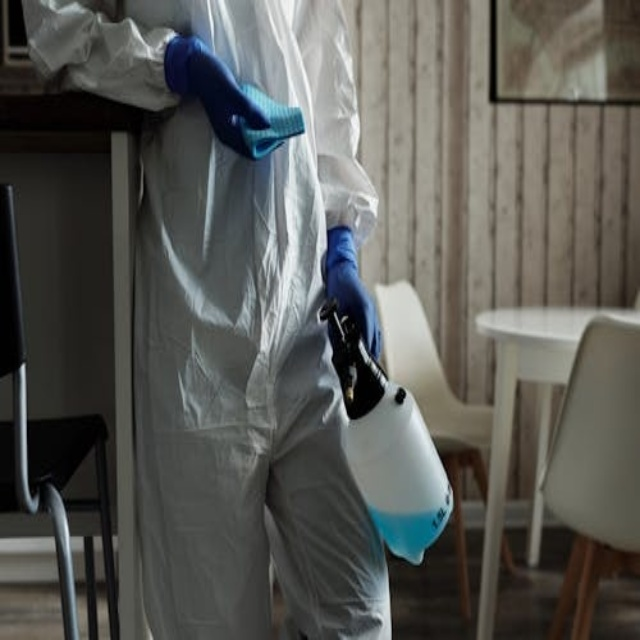Guantes: (164, 33, 305, 161), (323, 228, 381, 369)
